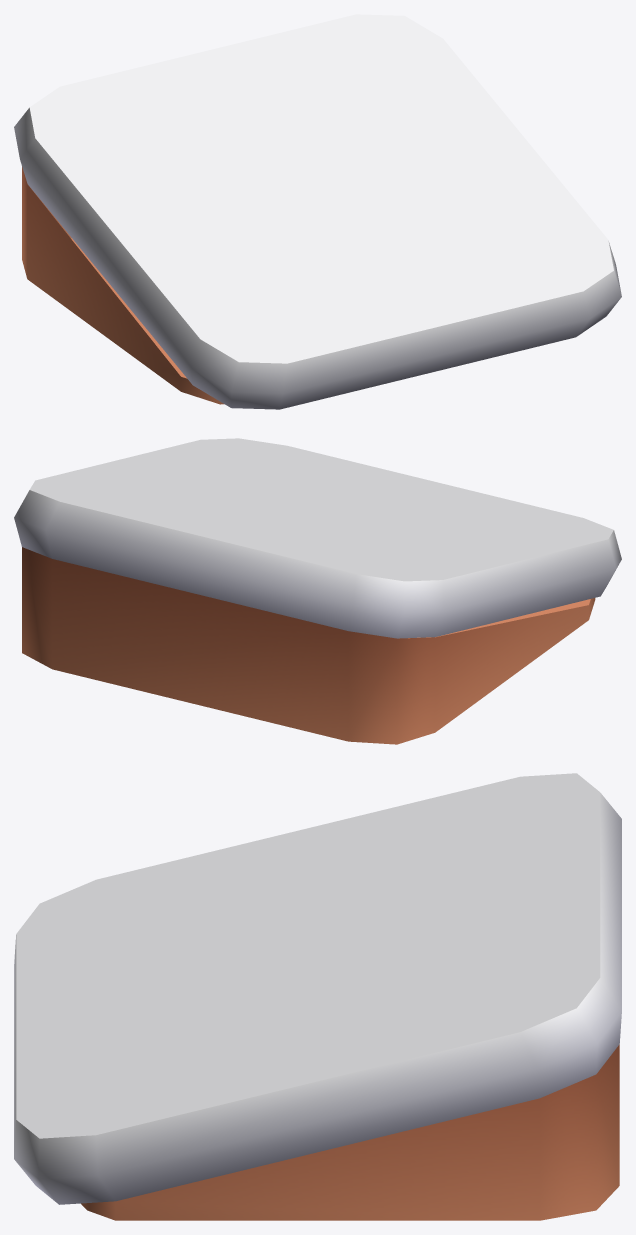
The model's file is block-snow-large-slope.glb.
3 renders of one model, top to bottom at view 1: azimuth 30°, elevation 25°; view 2: azimuth 150°, elevation 25°; view 3: azimuth 270°, elevation 25°, orthographic. The views are drawn at different scales.
Visible parts, largest first — view 1: block-snow-large-slope; view 2: block-snow-large-slope; view 3: block-snow-large-slope.
Boxes of the visible parts, <box> form: block-snow-large-slope: <box>14,14,621,409</box>; block-snow-large-slope: <box>14,438,621,744</box>; block-snow-large-slope: <box>14,773,621,1220</box>.
Size of the model in its own units: 2.08 by 0.7591 by 2.01.
1 material, 1 textured.
